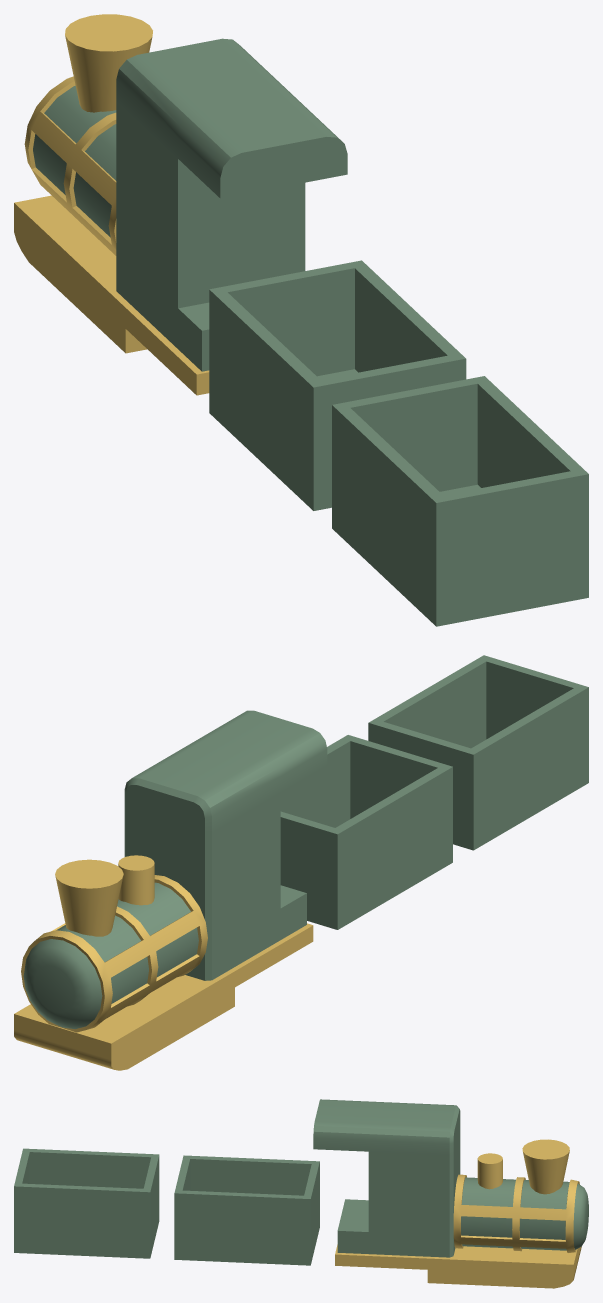
Rendered from Train.fbx.
The picture shows the model from 3 angles, top to bottom: view 1: azimuth 30°, elevation 25°; view 2: azimuth 150°, elevation 25°; view 3: azimuth 270°, elevation 25°; orthographic projection. The views are drawn at different scales.
Parts seen in each view (by area): view 1: train_box2, trainHead_back, train_box1, trainHead_bottom, trainHrad_body, trainHead_chimney1; view 2: trainHead_back, train_box2, train_box1, trainHrad_body, trainHead_bottom, trainHead_chimney1, trainHead_chimney2; view 3: trainHead_back, train_box2, train_box1, trainHrad_body, trainHead_bottom, trainHead_chimney1, trainHead_chimney2.
Boxes of the visible parts, x1,y1,x2,y2 form: train_box2: (332, 376, 588, 626); trainHead_back: (116, 38, 347, 371); train_box1: (209, 260, 466, 510); trainHead_bottom: (14, 195, 209, 395); trainHrad_body: (24, 76, 116, 255); trainHead_chimney1: (65, 14, 152, 112); trainHead_back: (124, 710, 327, 980); train_box2: (368, 655, 588, 850); train_box1: (280, 735, 452, 929); trainHrad_body: (21, 875, 207, 1032); trainHead_bottom: (14, 923, 313, 1070); trainHead_chimney1: (55, 859, 123, 936); trainHead_chimney2: (118, 855, 154, 905); trainHead_back: (313, 1099, 460, 1257); train_box2: (14, 1148, 159, 1258); train_box1: (174, 1155, 319, 1265); trainHrad_body: (453, 1174, 588, 1252); trainHead_bottom: (335, 1244, 581, 1288); trainHead_chimney1: (522, 1139, 569, 1194); trainHead_chimney2: (477, 1153, 502, 1189).
Size of the model in its own units: 2.88 by 3.32 by 11.56.
